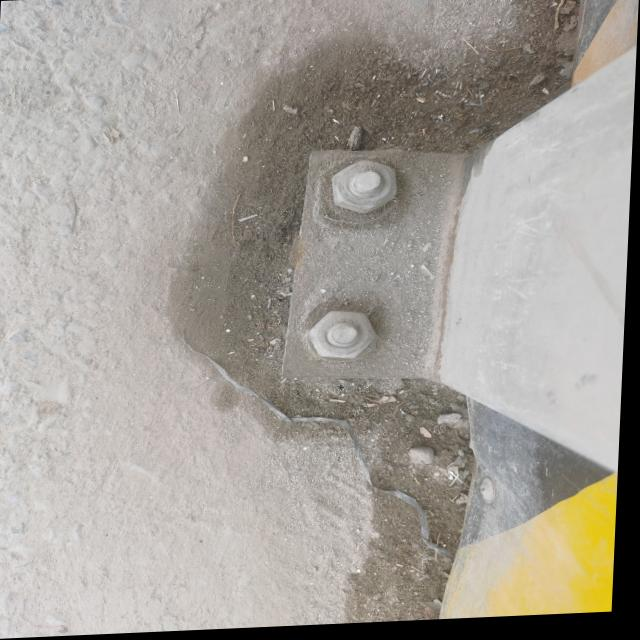Regular bolt: (333, 163, 400, 218), (311, 313, 381, 364)
